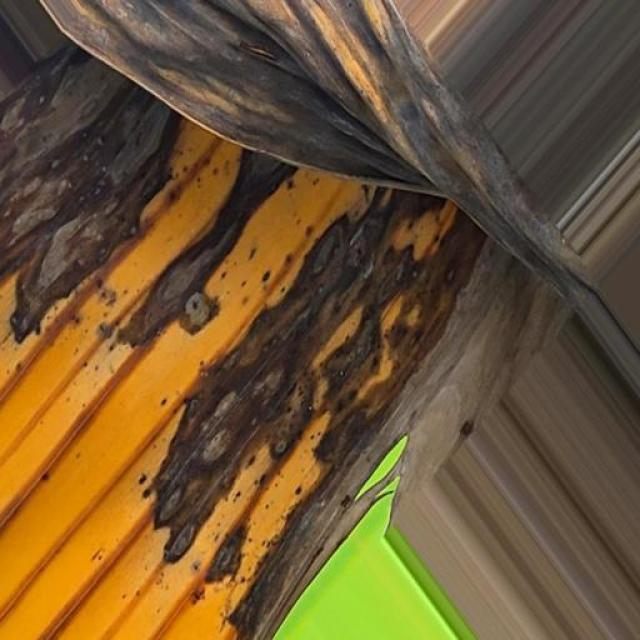Cordana: (0, 71, 527, 640)
